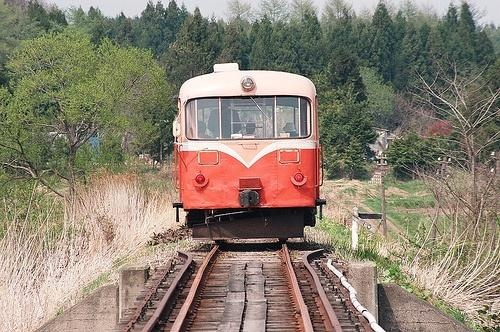train: (172, 62, 328, 244)
